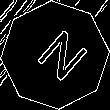N_SW: (23, 23, 87, 87)
